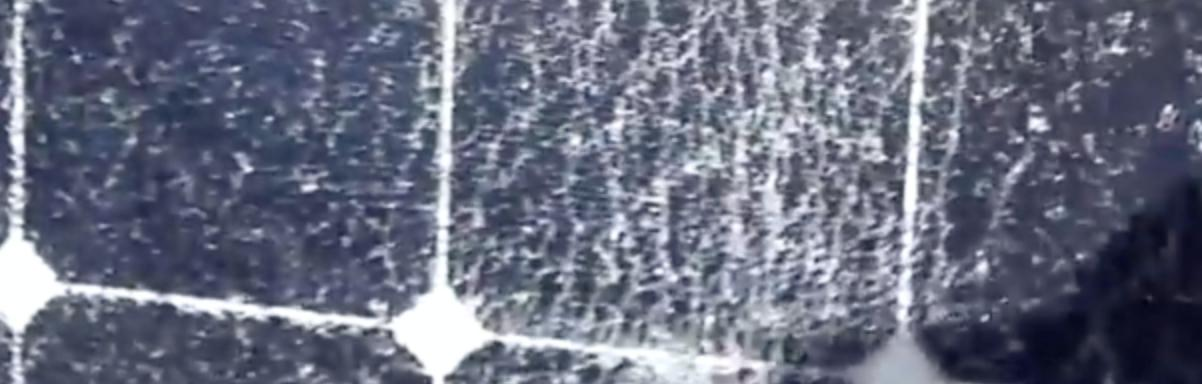Crack: (432, 9, 1155, 384), (0, 4, 434, 384)
